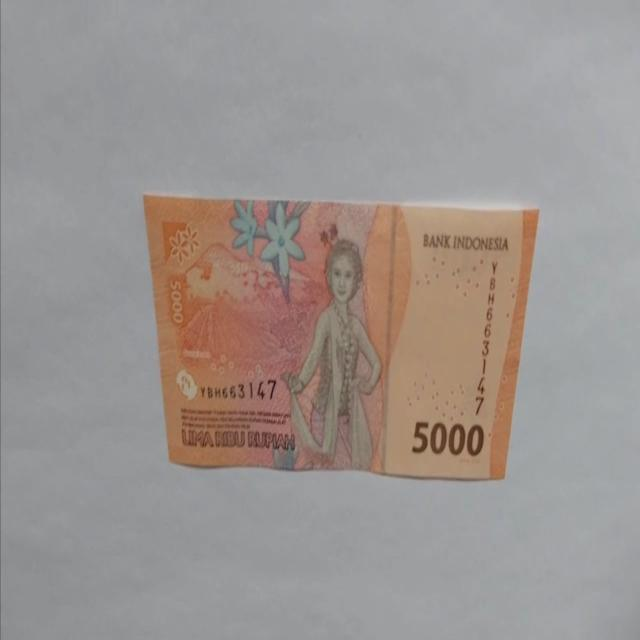lima ribu rupiah: (142, 192, 540, 480), (279, 238, 383, 470)
